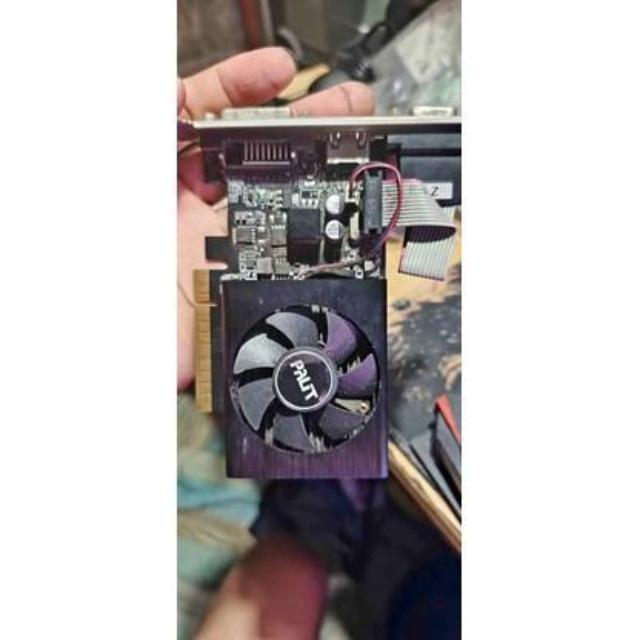GPU: (188, 90, 394, 499)
